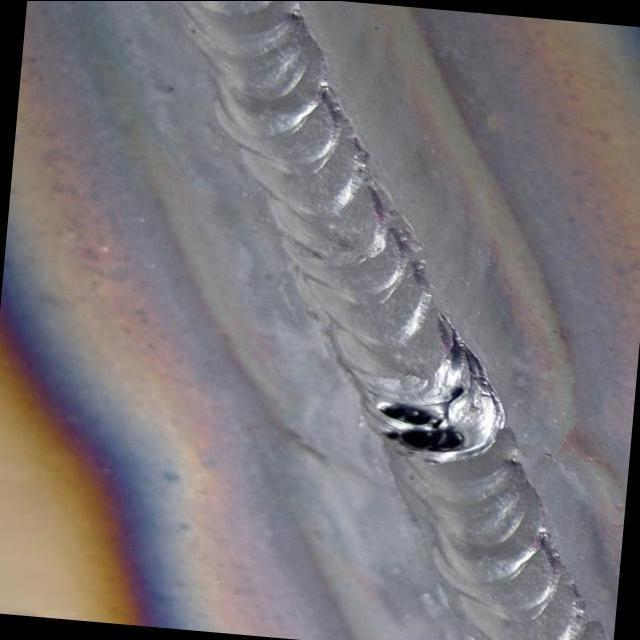defect: (369, 396, 473, 460)
